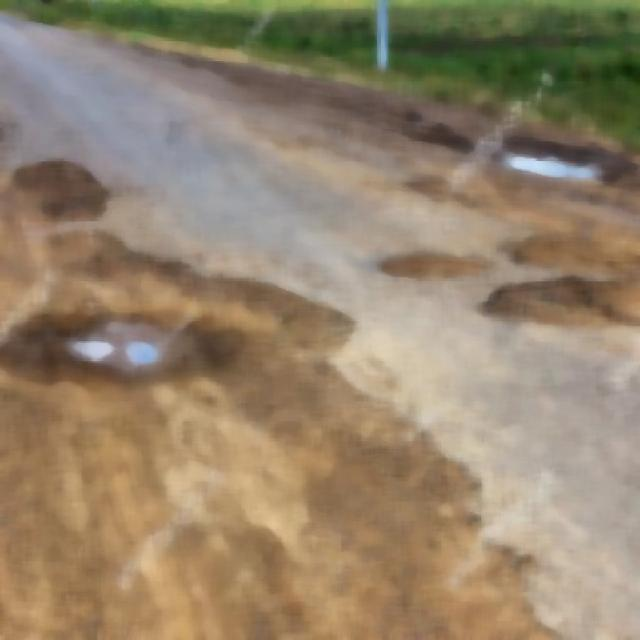Pothole: (461, 122, 639, 210), (471, 262, 640, 341), (41, 304, 218, 371)
